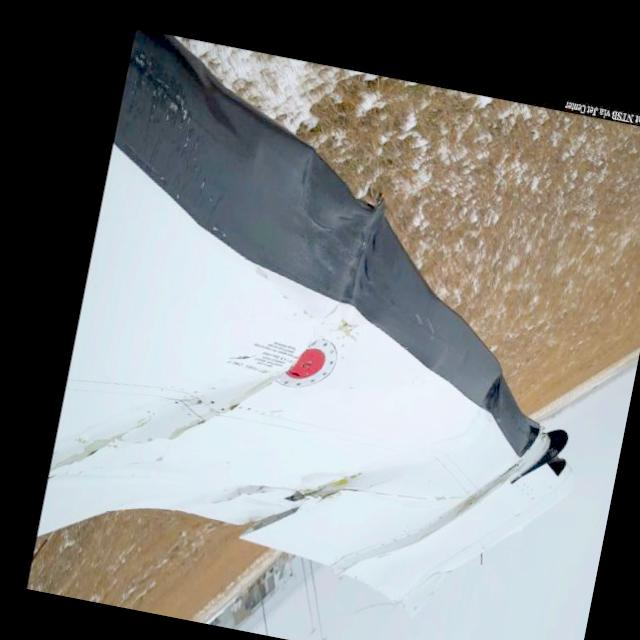crack: (154, 346, 285, 462), (41, 391, 162, 494)
dent: (264, 138, 394, 332), (362, 344, 504, 494)
